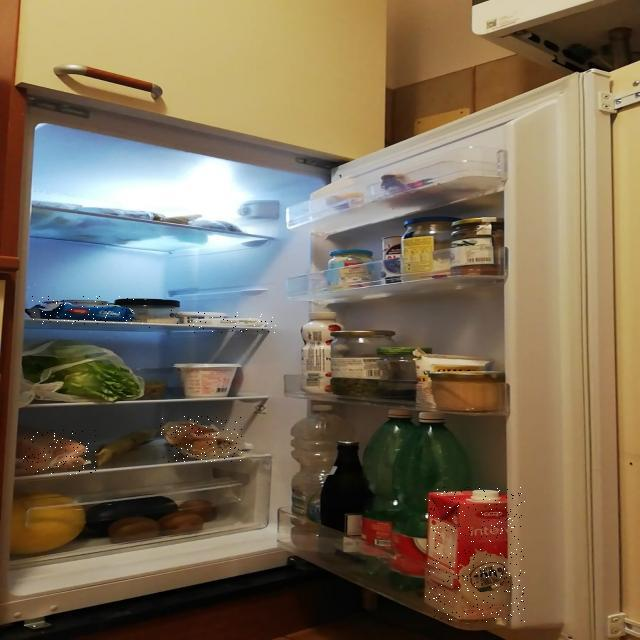apple: (160, 417, 243, 462)
butter: (187, 312, 276, 333)
carrots: (23, 430, 98, 475)
cheese: (32, 296, 135, 324), (133, 310, 185, 328)
milk: (425, 487, 525, 622)
